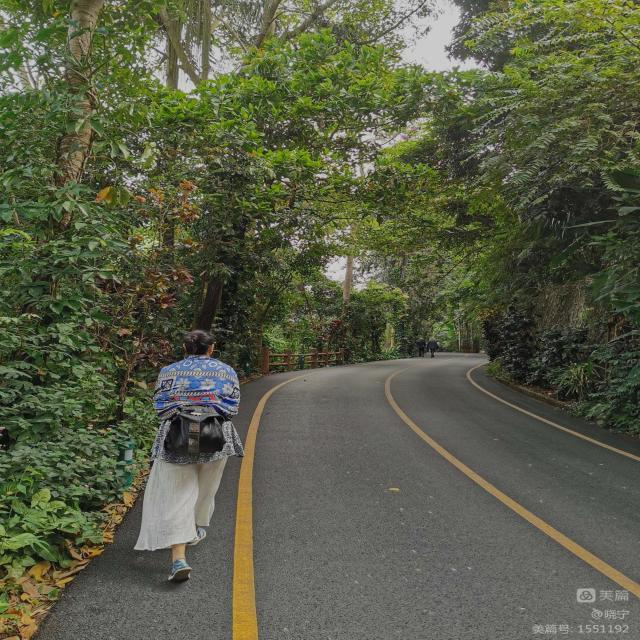non-fight: (136, 318, 243, 598)
